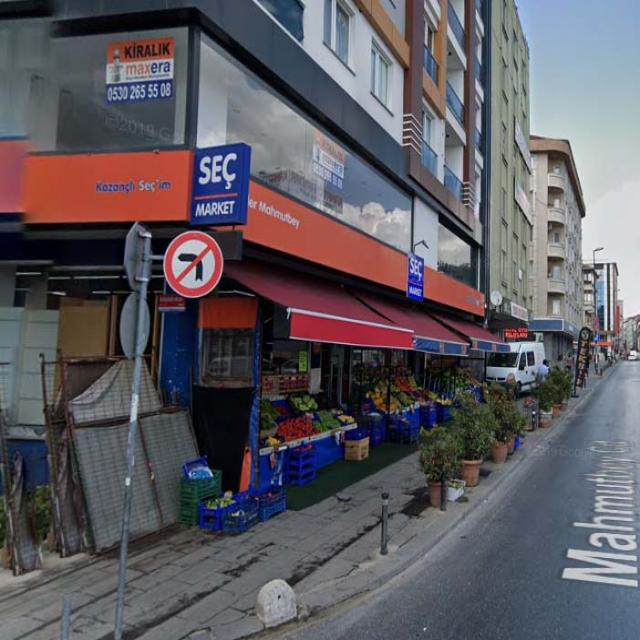soladonulmez: (164, 231, 223, 298)
